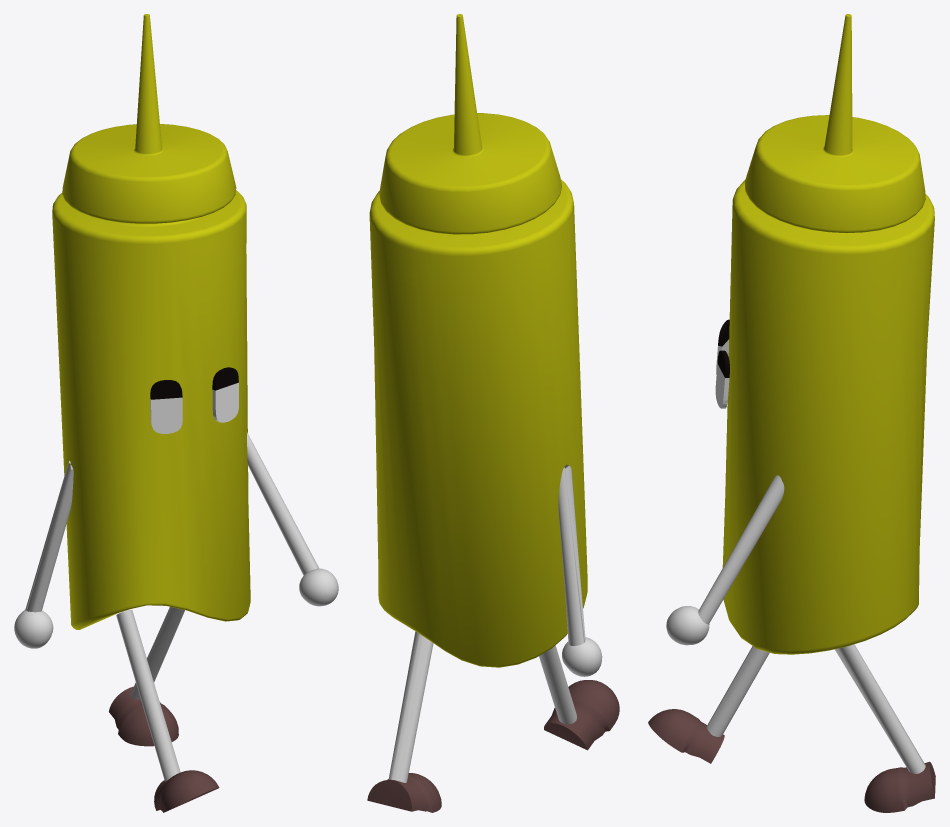
Rendered from kecap kuning jalan.fbx.
3 renders of one model, left to right at view 1: azimuth 30°, elevation 25°; view 2: azimuth 150°, elevation 25°; view 3: azimuth 270°, elevation 25°, orthographic. The views are drawn at different scales.
Visible parts, largest first — view 1: Cylinder.010, Cylinder.003, Cylinder.001, Cylinder.005, Sphere.002, Sphere.001, Plane.001, Plane.004, Cylinder.004, Sphere.003, Sphere.008; view 2: Cylinder.010, Sphere.001, Cylinder.005, Cylinder.004, Sphere.002, Cylinder.003, Sphere.003; view 3: Cylinder.010, Cylinder.004, Cylinder.001, Sphere.002, Sphere.001, Cylinder.003, Sphere.008, Plane.004.
Part boxes in pixels (bbox=[...]): Cylinder.010: bbox=[52, 14, 250, 629]; Cylinder.003: bbox=[116, 609, 180, 781]; Cylinder.001: bbox=[247, 432, 319, 575]; Cylinder.005: bbox=[25, 461, 73, 612]; Sphere.002: bbox=[109, 686, 178, 746]; Sphere.001: bbox=[154, 770, 219, 812]; Plane.001: bbox=[150, 380, 182, 433]; Plane.004: bbox=[212, 367, 238, 422]; Cylinder.004: bbox=[130, 607, 184, 699]; Sphere.003: bbox=[14, 610, 53, 648]; Sphere.008: bbox=[299, 568, 338, 606]; Cylinder.010: bbox=[369, 14, 587, 667]; Sphere.001: bbox=[544, 680, 619, 750]; Cylinder.005: bbox=[558, 464, 585, 645]; Cylinder.004: bbox=[388, 631, 433, 782]; Sphere.002: bbox=[367, 773, 441, 812]; Cylinder.003: bbox=[539, 645, 576, 724]; Sphere.003: bbox=[562, 637, 602, 676]; Cylinder.010: bbox=[722, 14, 934, 654]; Cylinder.004: bbox=[834, 644, 925, 773]; Cylinder.001: bbox=[698, 475, 784, 624]; Sphere.002: bbox=[864, 761, 935, 812]; Sphere.001: bbox=[648, 709, 724, 763]; Cylinder.003: bbox=[706, 646, 769, 736]; Sphere.008: bbox=[666, 606, 709, 645]; Plane.004: bbox=[715, 350, 729, 408].
Size of the model in its own units: 47.99 by 140 by 47.13.
